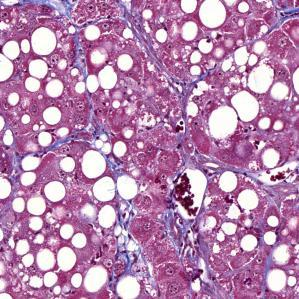fibrosis: (109, 207, 202, 271)
